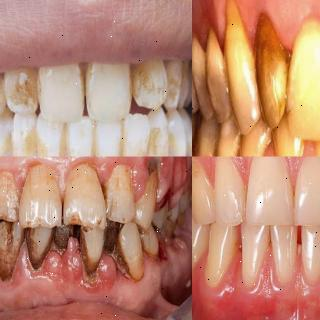Gum Swelling: (0, 235, 191, 309), (0, 156, 154, 200), (232, 0, 320, 57), (210, 252, 256, 306), (255, 249, 289, 307), (287, 247, 320, 303)
calculus: (105, 212, 131, 282), (78, 224, 101, 276), (51, 218, 75, 257)
stains: (248, 18, 290, 126), (224, 24, 258, 117), (290, 32, 320, 137), (88, 54, 134, 120), (40, 58, 83, 118), (205, 22, 230, 120), (5, 62, 41, 108), (131, 60, 163, 111), (36, 118, 68, 156), (26, 225, 50, 275), (65, 120, 96, 156), (0, 222, 21, 274), (240, 125, 271, 157), (118, 118, 144, 156), (273, 118, 299, 156), (168, 59, 186, 113), (142, 229, 164, 271), (216, 118, 240, 156), (93, 125, 119, 156), (14, 123, 36, 157), (146, 125, 170, 156), (0, 123, 18, 157), (171, 134, 190, 156), (0, 71, 7, 121), (181, 125, 192, 156)
